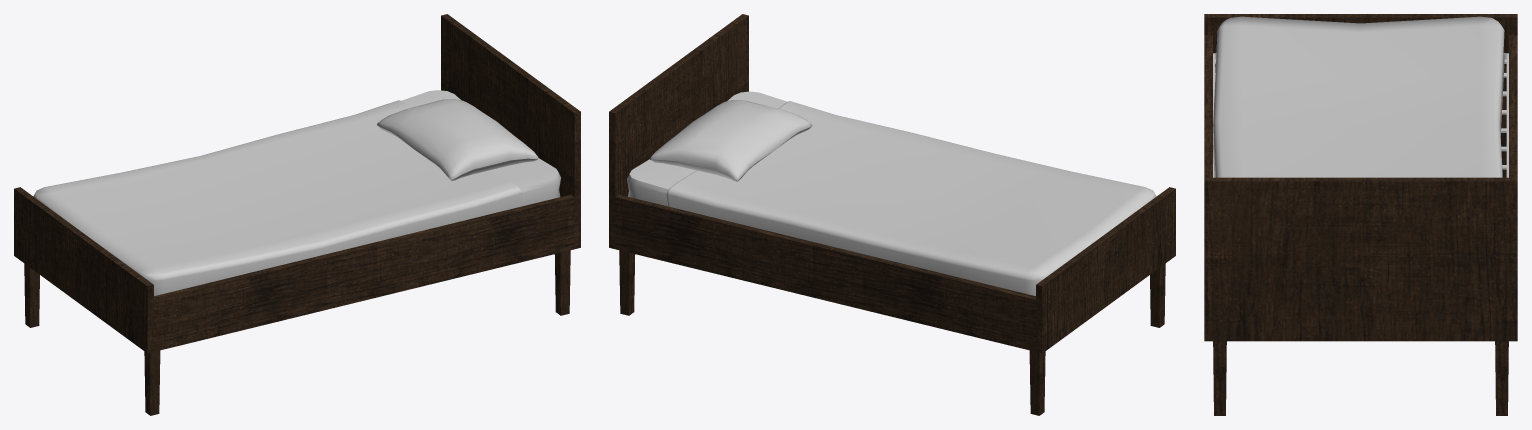
File: bed_3_b_1_made.obj
The picture shows the model from 3 angles, left to right: view 1: azimuth 30°, elevation 25°; view 2: azimuth 150°, elevation 25°; view 3: azimuth 270°, elevation 25°; orthographic projection. The views are drawn at different scales.
Parts seen in each view (by area): view 1: bed_3_b_1_made; view 2: bed_3_b_1_made; view 3: bed_3_b_1_made.
Part boxes in pixels (x1,y1,x2,y2): bed_3_b_1_made: (14,14,580,415); bed_3_b_1_made: (609,14,1175,415); bed_3_b_1_made: (1204,14,1517,415).
Size of the model in its own units: 2.7 by 1.21 by 1.44.
